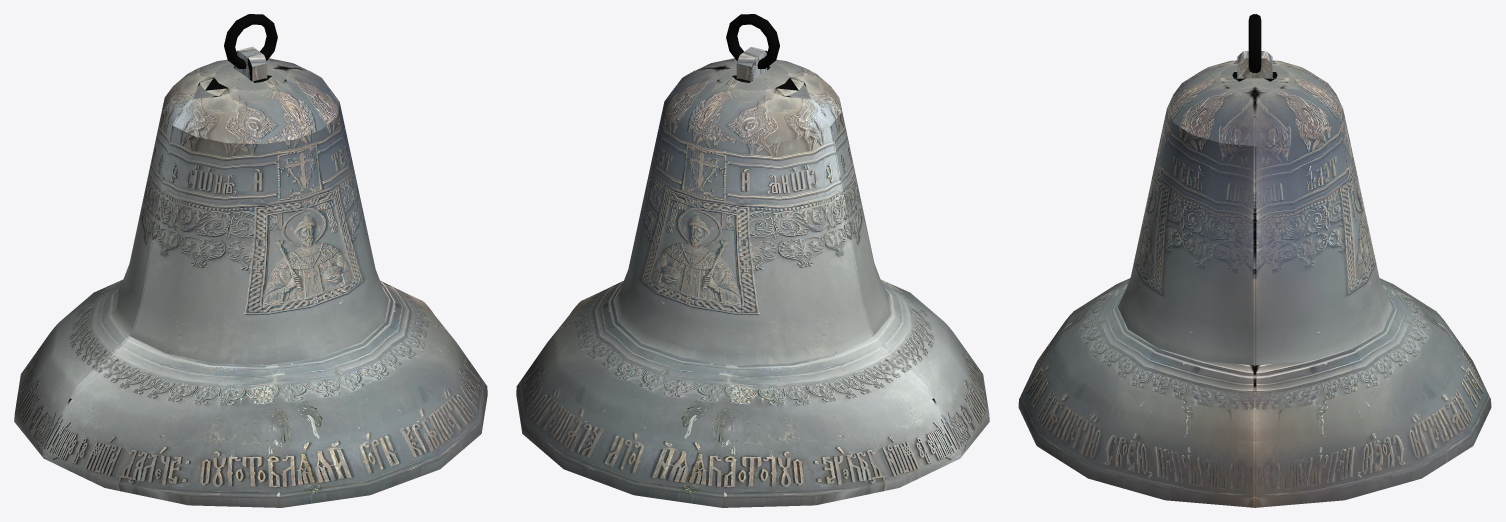
Rendered from wrwr.fbx.
The picture shows the model from 3 angles, left to right: view 1: azimuth 30°, elevation 25°; view 2: azimuth 150°, elevation 25°; view 3: azimuth 270°, elevation 25°; orthographic projection.
Visible parts, largest first — view 1: Colocol.001; view 2: Colocol.001; view 3: Colocol.001.
Part boxes in pixels (<box>): Colocol.001: <box>14,14,487,507</box>; Colocol.001: <box>516,14,989,507</box>; Colocol.001: <box>1018,14,1491,507</box>.
Bounding box in the file's own units: 0.0159 × 0.0164 × 0.0158.
6 materials, 4 textured.
